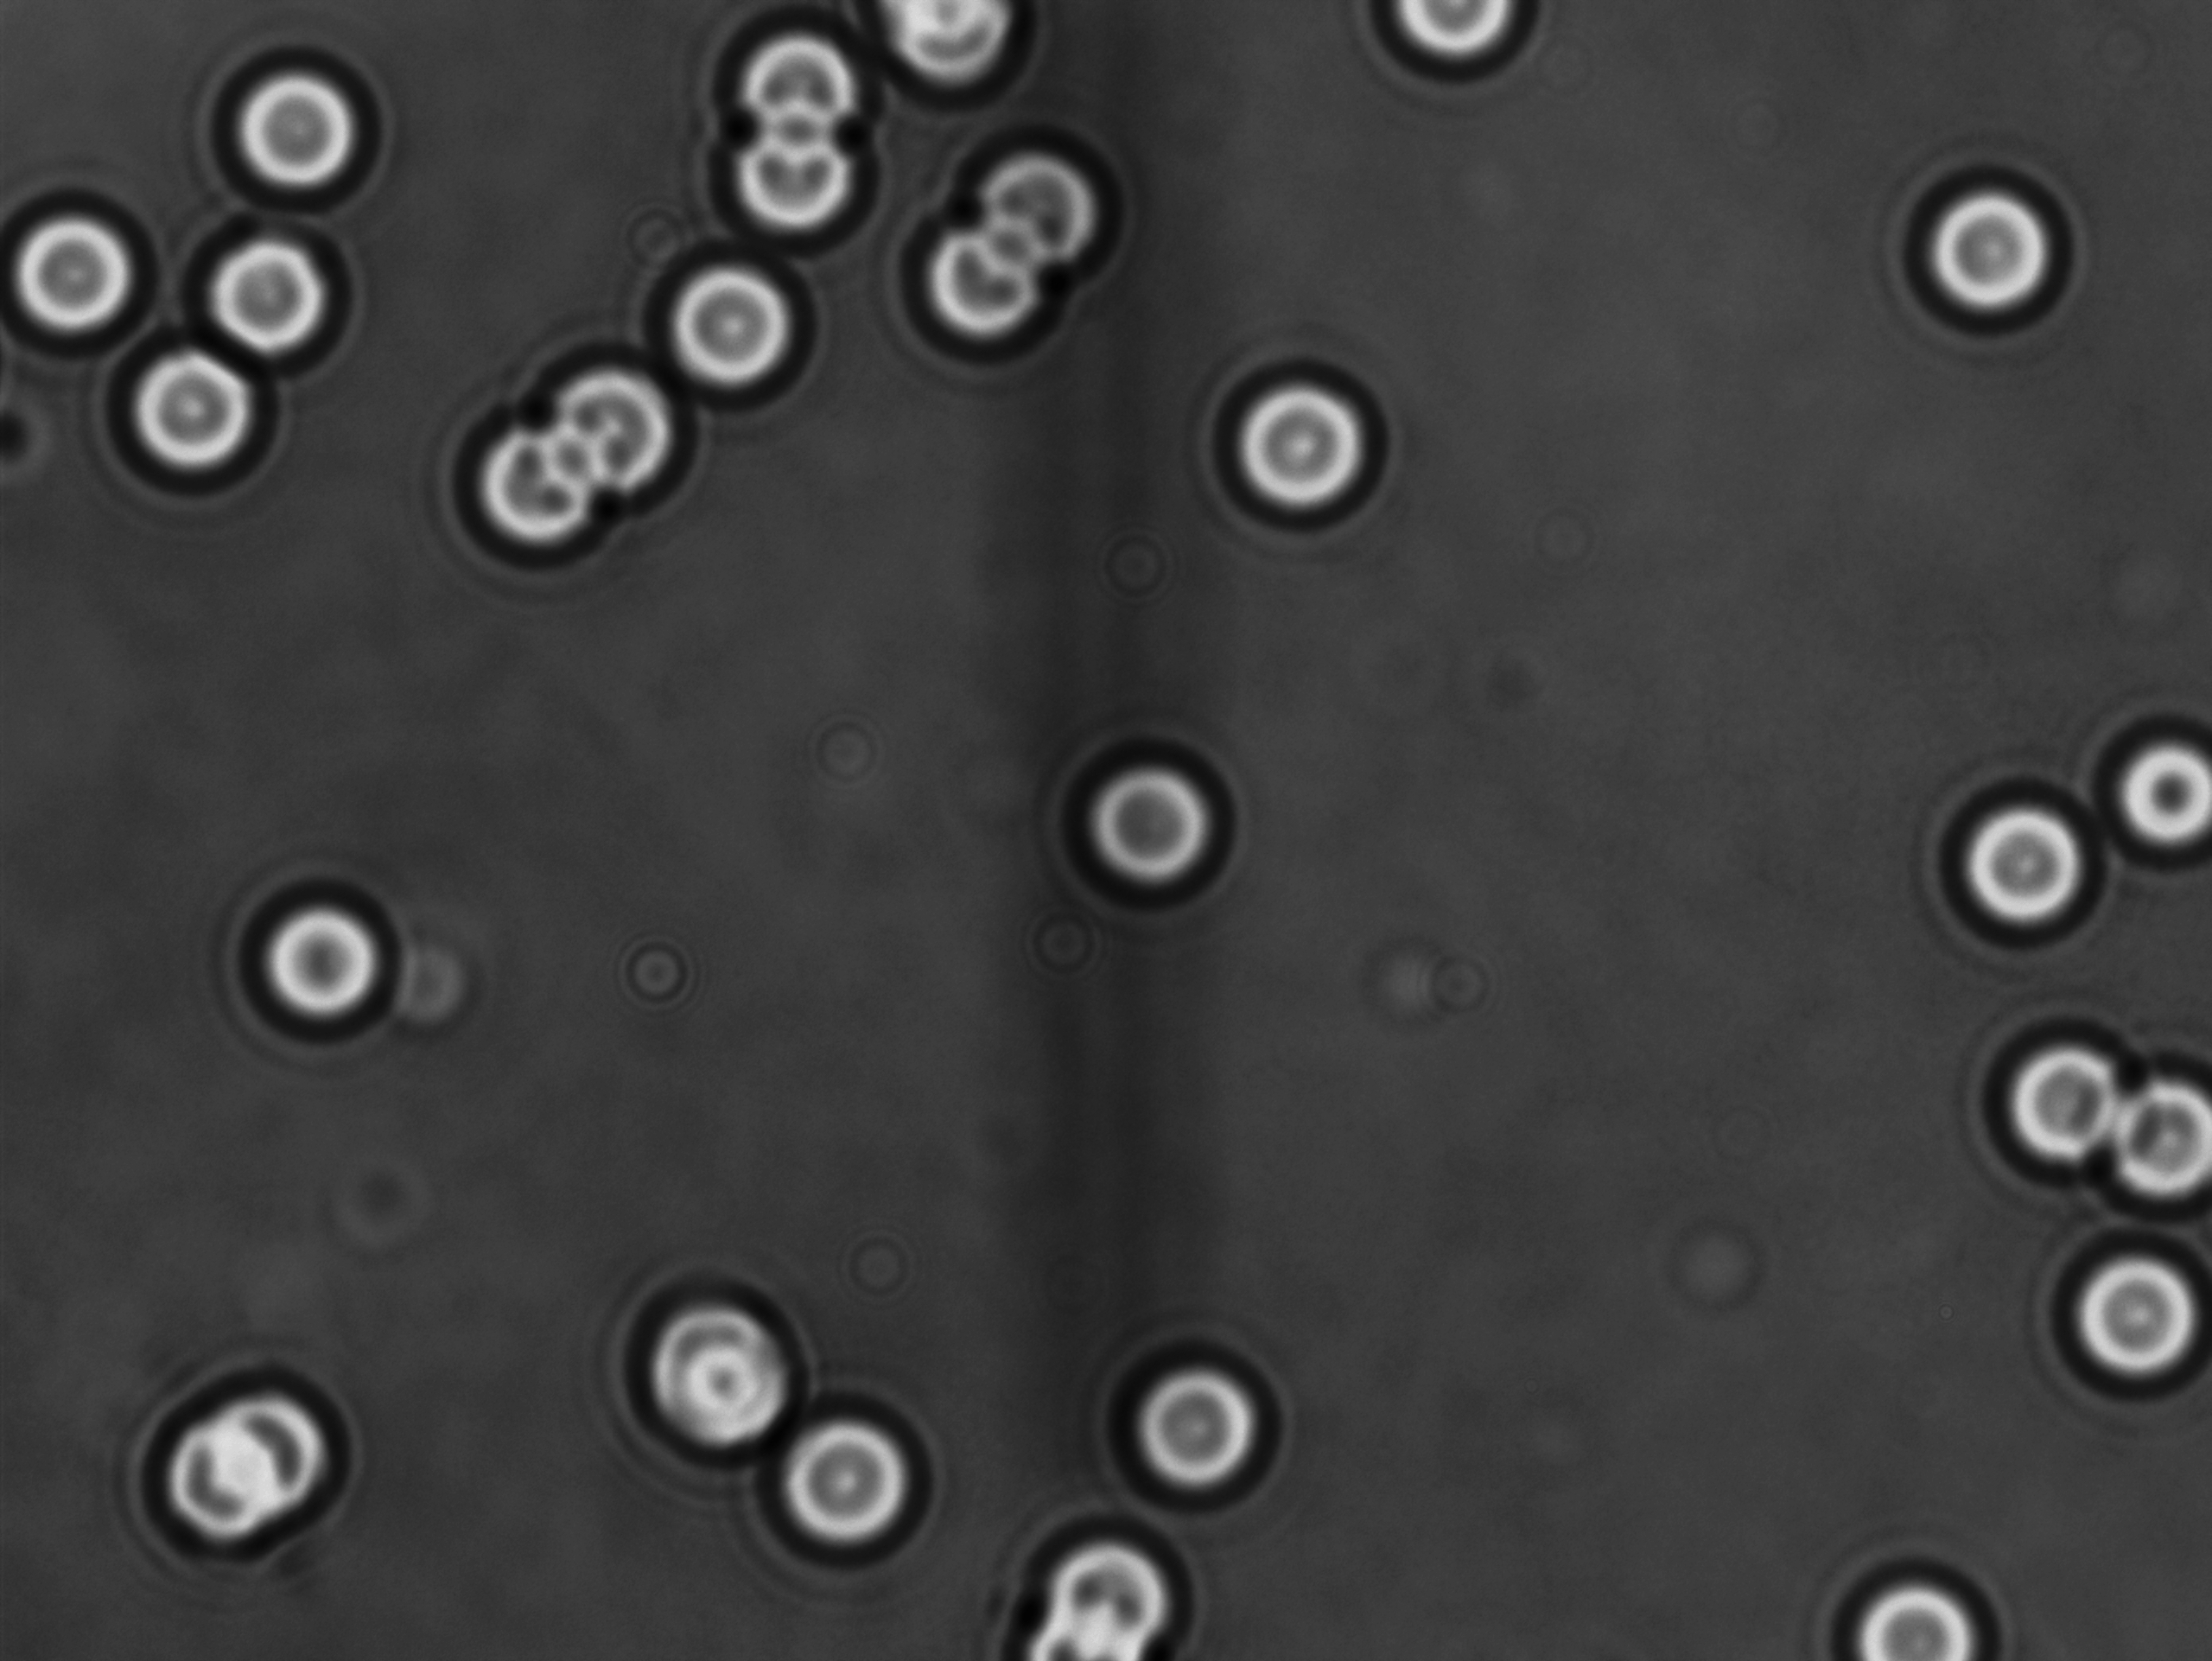depth:60: (1980, 988, 2186, 1197), (1926, 759, 2139, 958), (1052, 717, 1249, 923), (89, 325, 302, 513), (1202, 340, 1399, 534), (1903, 148, 2097, 340), (649, 239, 844, 429), (2018, 1214, 2212, 1405), (1090, 1335, 1286, 1514), (232, 862, 419, 1047), (647, 1272, 836, 1455), (947, 101, 1127, 293), (701, 87, 891, 265), (754, 1398, 940, 1574), (206, 37, 387, 208), (888, 190, 1059, 372), (525, 325, 694, 508), (180, 208, 356, 377), (1818, 1535, 2027, 1661), (2095, 679, 2212, 872), (2086, 1045, 2212, 1221)
